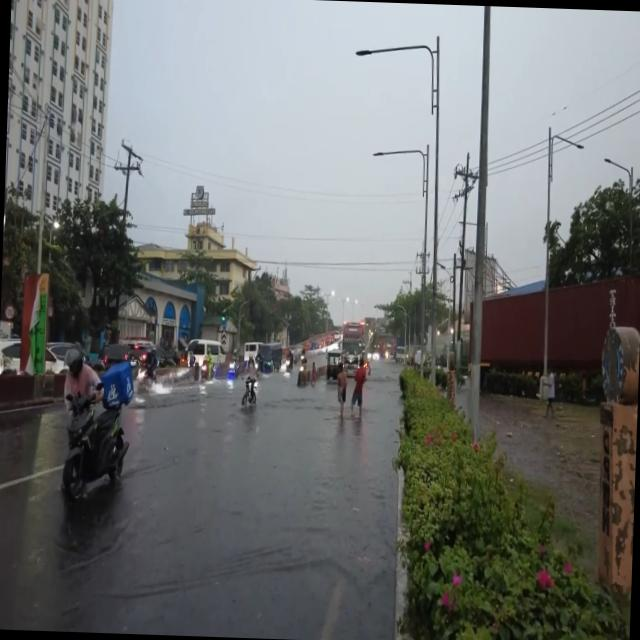half: (62, 340, 84, 377)
